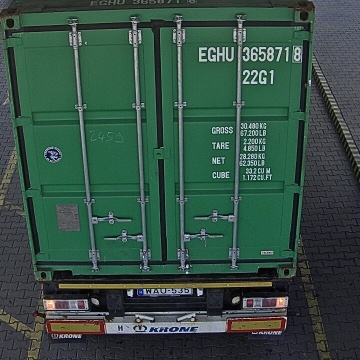serial_id: (199, 46, 302, 61)
